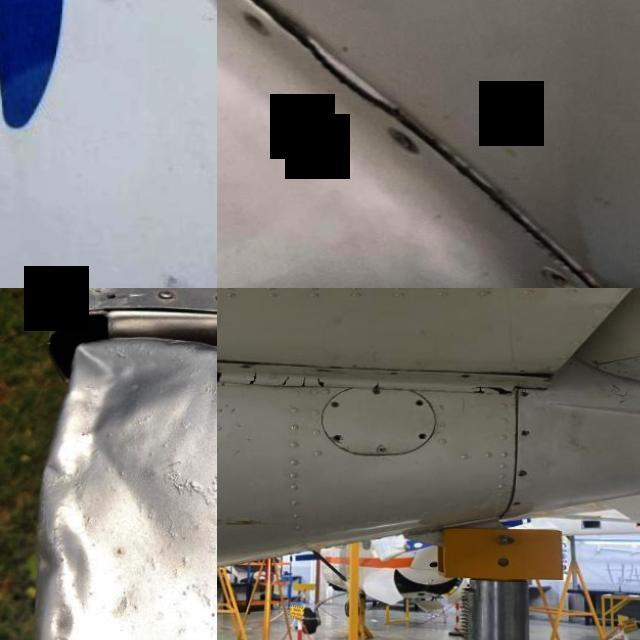Crack: (262, 23, 414, 128), (571, 243, 640, 288)
Dent: (54, 323, 198, 456), (10, 486, 116, 640)
Missing_Fastener: (534, 261, 582, 288), (236, 12, 274, 36), (334, 432, 343, 440), (415, 398, 425, 404), (419, 432, 428, 438), (240, 364, 253, 368), (522, 428, 530, 434), (514, 499, 522, 504)
